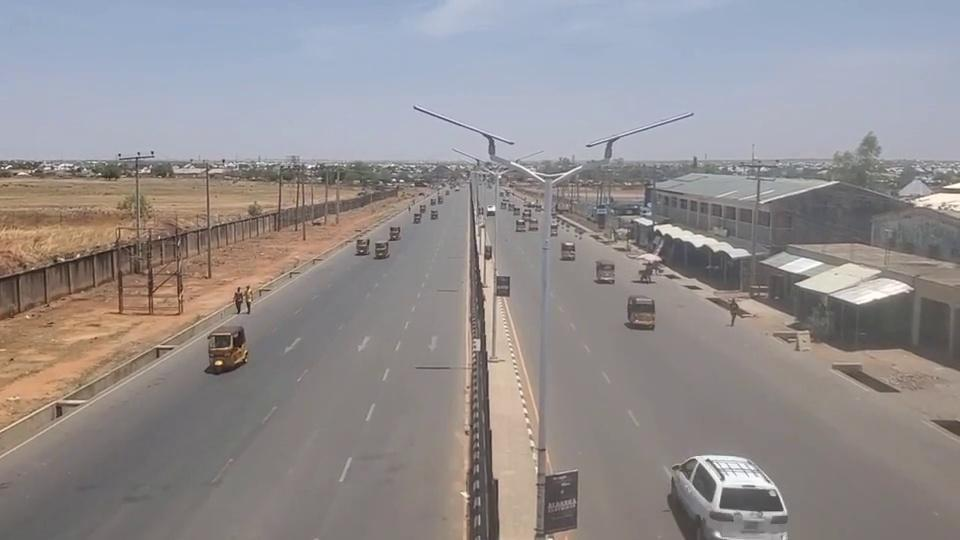car: (667, 453, 791, 540)
keke: (206, 324, 248, 372), (626, 295, 656, 330), (596, 261, 615, 283), (374, 240, 389, 258), (356, 237, 370, 255), (389, 225, 401, 240), (430, 209, 439, 219)
